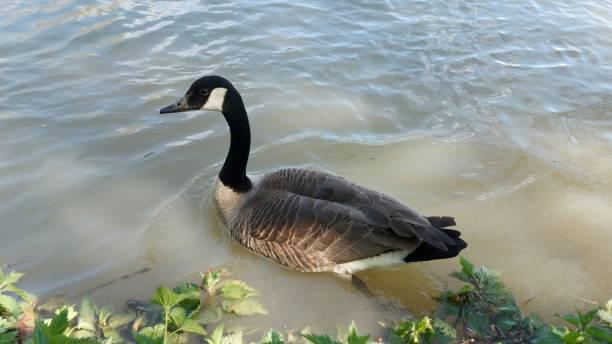Canadian-Goose: (156, 75, 467, 279)
